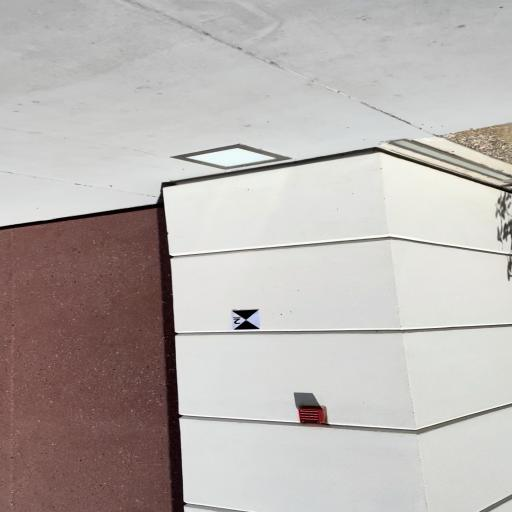target2: (231, 309, 261, 330)
